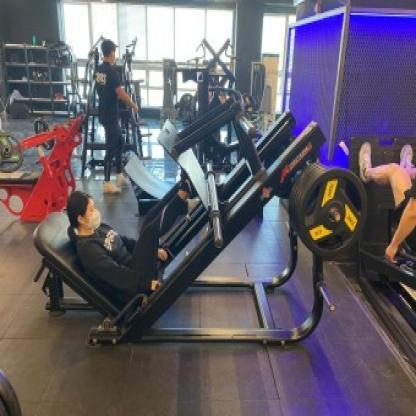leg press: (25, 77, 373, 371)
